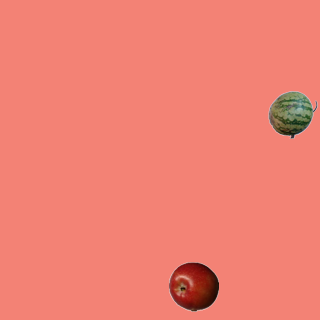Apple Braeburn: (168, 261, 218, 311)
Watermelon: (267, 89, 317, 139)
